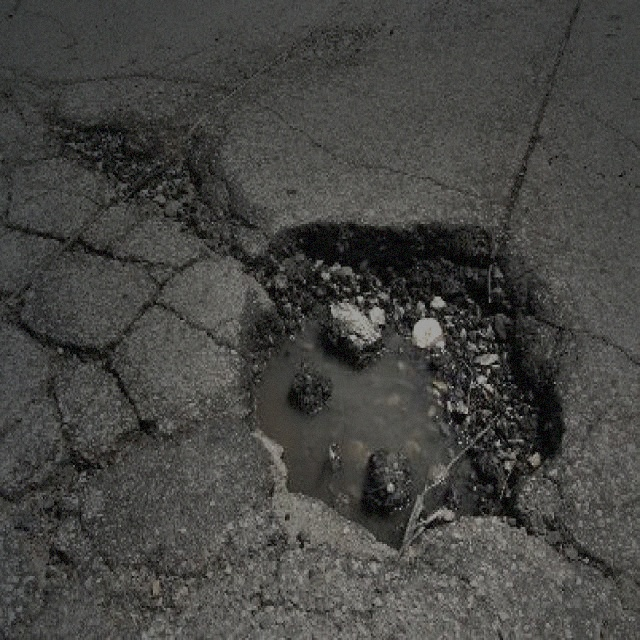pothole: (231, 214, 571, 550), (52, 113, 239, 250)
